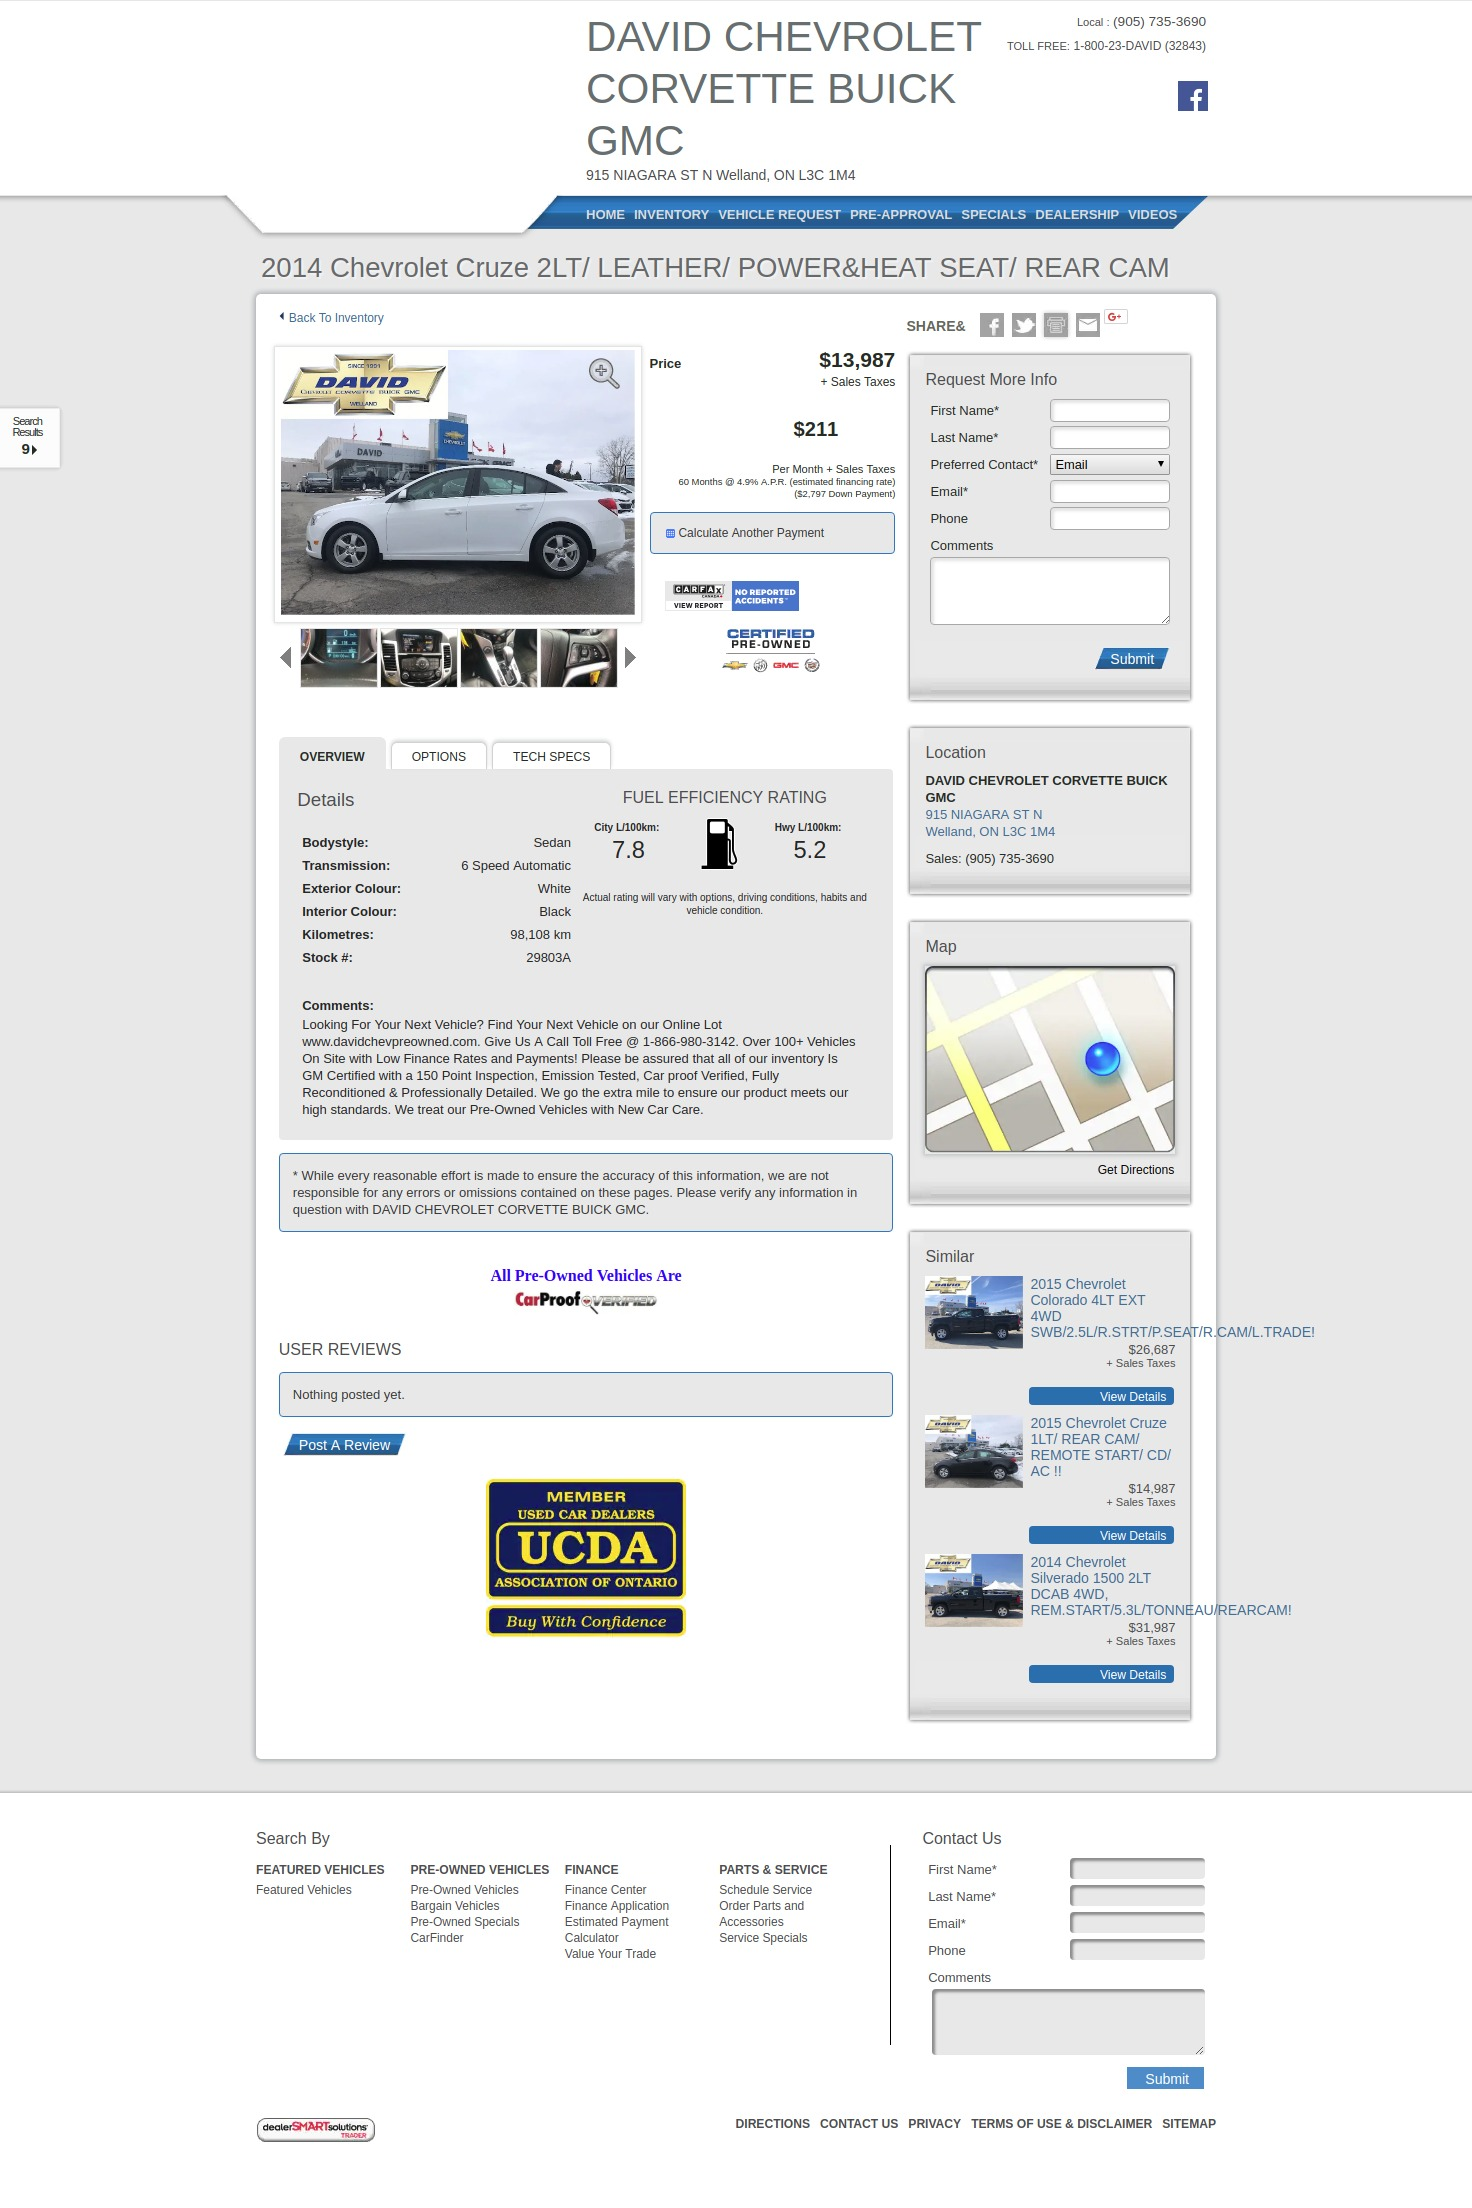car: (624, 647, 637, 670)
